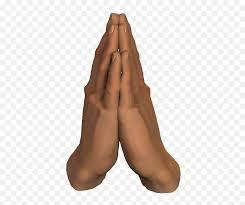Praying-Hands: (69, 8, 181, 189)
